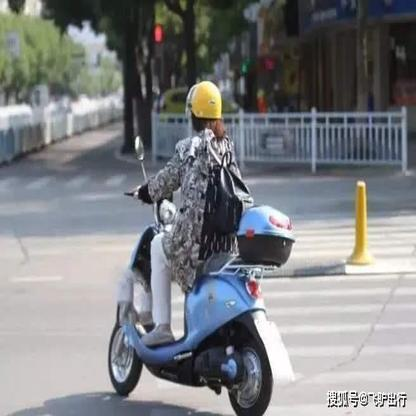target: (108, 80, 294, 412)
